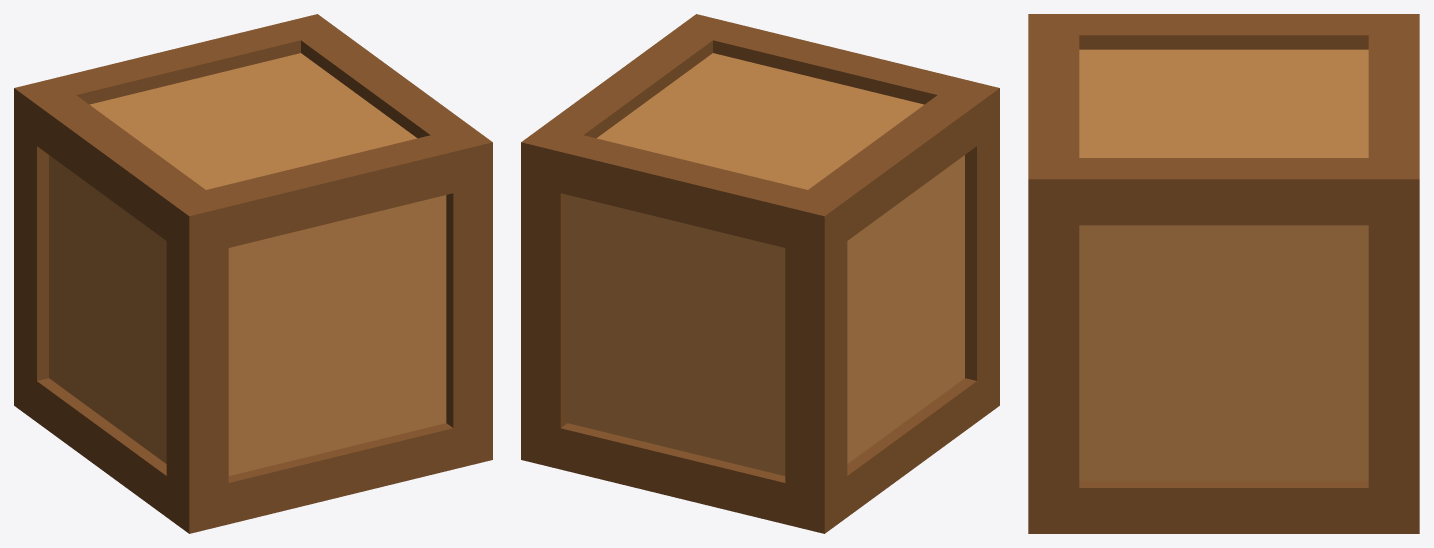
Rendered from crate.fbx.
3 views of the same model, side by side, from view 1: azimuth 30°, elevation 25°; view 2: azimuth 150°, elevation 25°; view 3: azimuth 270°, elevation 25° (orthographic). The views are drawn at different scales.
Visible parts, largest first — view 1: crate; view 2: crate; view 3: crate.
Part boxes in pixels (<box>): crate: <box>14,14,492,533</box>; crate: <box>521,14,999,533</box>; crate: <box>1028,14,1419,533</box>.
Size of the model in its own units: 400 by 400 by 400.
Materials: 1 (1 with a texture image).
